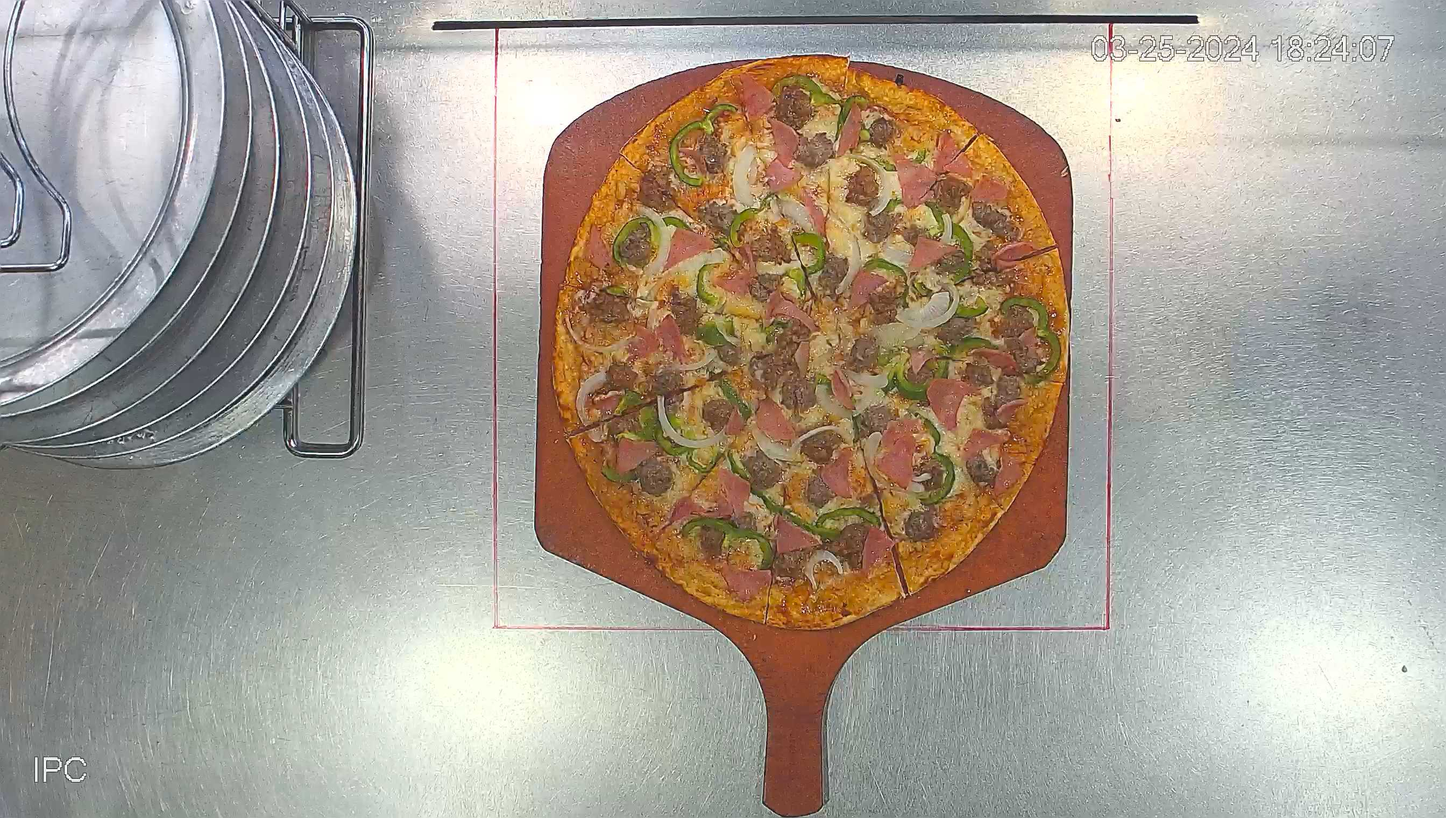hawaiian: (554, 53, 1070, 631)
